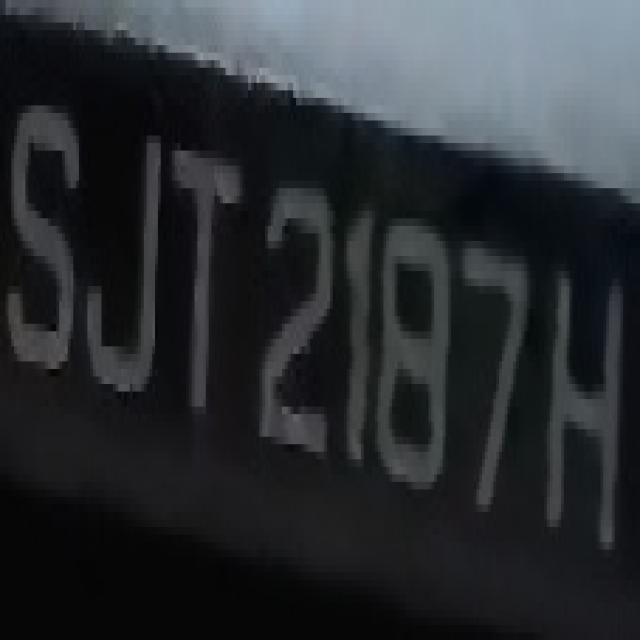1: (335, 211, 378, 512)
2: (251, 150, 330, 482)
7: (448, 218, 528, 542)
8: (372, 196, 454, 520)
H: (547, 226, 629, 565)
J: (79, 90, 169, 430)
S: (11, 68, 85, 399)
T: (164, 105, 254, 437)
